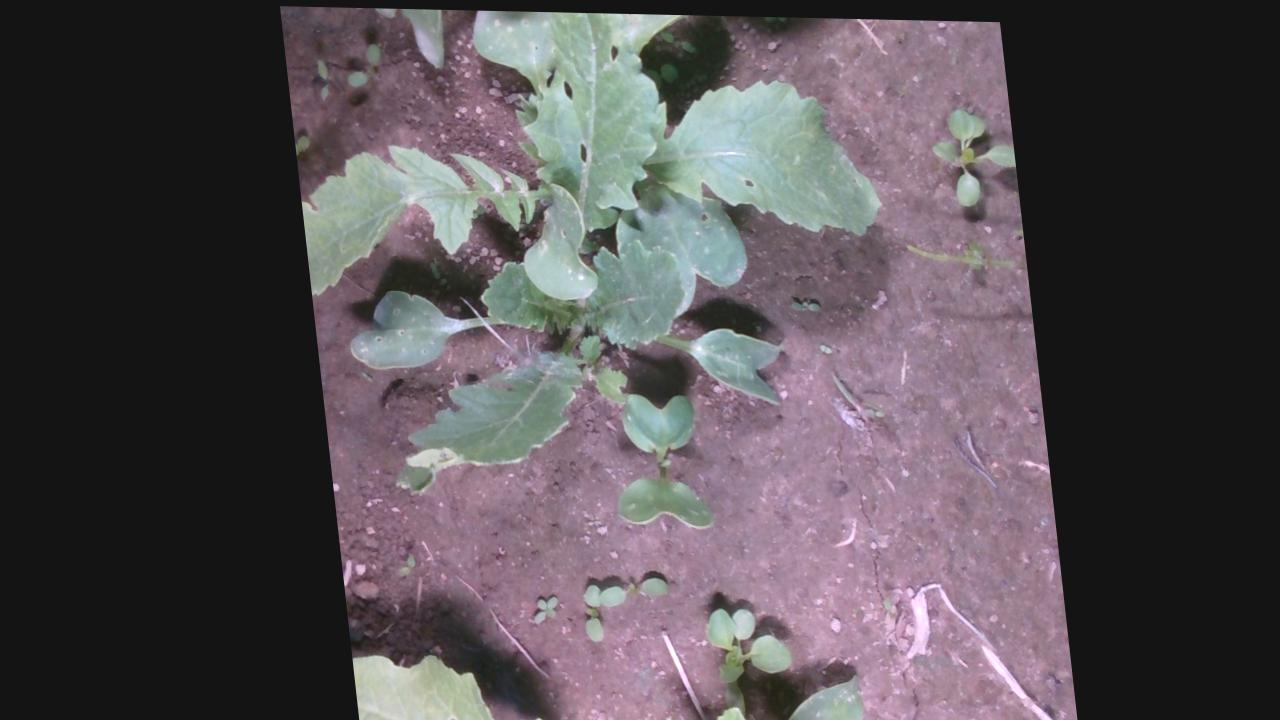weed: (515, 588, 548, 630), (781, 295, 815, 311), (760, 13, 797, 21)
